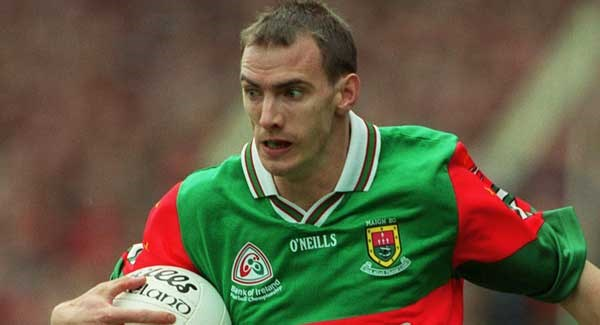ball: (109, 258, 226, 322)
player: (102, 13, 591, 314)
